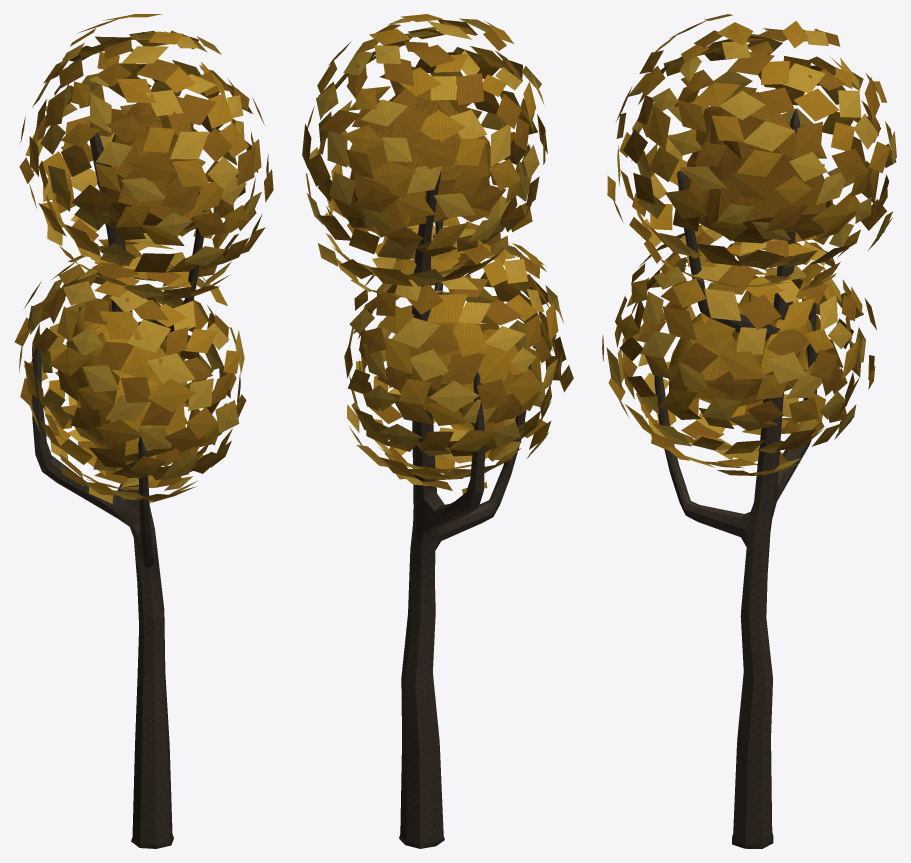
Rendered from autumn-tree-golden-lod.glb.
3 views of the same model, side by side, from view 1: azimuth 30°, elevation 25°; view 2: azimuth 150°, elevation 25°; view 3: azimuth 270°, elevation 25° (orthographic).
Visible parts, largest first — view 1: autumn-tree-golden-leaf-envelope-2, autumn-tree-golden-leaf-envelope-1, autumn-tree-golden-trunk-and-branches, autumn-tree-golden-canopy-lobe-2, autumn-tree-golden-canopy-lobe-1; view 2: autumn-tree-golden-leaf-envelope-2, autumn-tree-golden-leaf-envelope-1, autumn-tree-golden-trunk-and-branches, autumn-tree-golden-canopy-lobe-2, autumn-tree-golden-canopy-lobe-1; view 3: autumn-tree-golden-leaf-envelope-2, autumn-tree-golden-leaf-envelope-1, autumn-tree-golden-trunk-and-branches, autumn-tree-golden-canopy-lobe-2, autumn-tree-golden-canopy-lobe-1.
Part boxes in pixels (x1=…): autumn-tree-golden-leaf-envelope-2: x1=19, y1=14, x2=273, y2=300; autumn-tree-golden-leaf-envelope-1: x1=14, y1=239, x2=246, y2=503; autumn-tree-golden-trunk-and-branches: x1=32, y1=125, x2=206, y2=848; autumn-tree-golden-canopy-lobe-2: x1=97, y1=96, x2=211, y2=232; autumn-tree-golden-canopy-lobe-1: x1=66, y1=305, x2=185, y2=464; autumn-tree-golden-leaf-envelope-2: x1=302, y1=14, x2=547, y2=297; autumn-tree-golden-leaf-envelope-1: x1=344, y1=228, x2=573, y2=494; autumn-tree-golden-trunk-and-branches: x1=399, y1=171, x2=531, y2=848; autumn-tree-golden-canopy-lobe-2: x1=346, y1=85, x2=494, y2=237; autumn-tree-golden-canopy-lobe-1: x1=398, y1=322, x2=528, y2=429; autumn-tree-golden-leaf-envelope-2: x1=607, y1=14, x2=896, y2=290; autumn-tree-golden-leaf-envelope-1: x1=602, y1=228, x2=876, y2=476; autumn-tree-golden-trunk-and-branches: x1=654, y1=108, x2=816, y2=848; autumn-tree-golden-canopy-lobe-2: x1=684, y1=92, x2=832, y2=243; autumn-tree-golden-canopy-lobe-1: x1=668, y1=267, x2=812, y2=406.
Bounding box in the file's own units: 2.84 × 10.41 × 3.41.
Materials: 6 (6 with a texture image).
